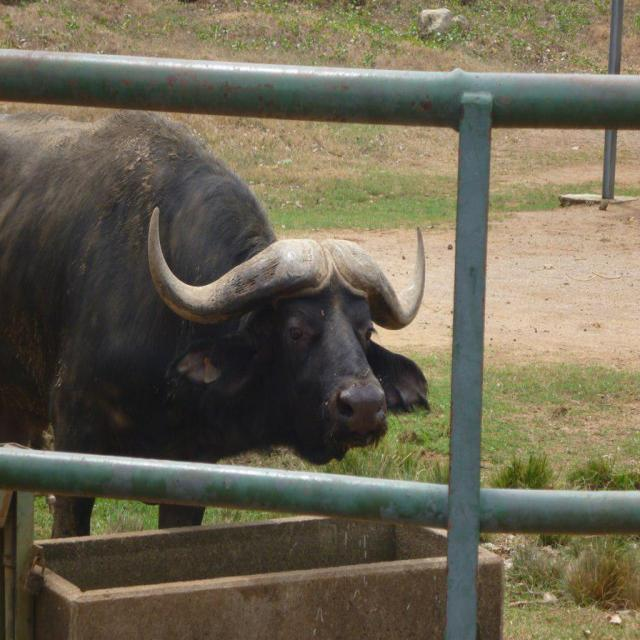Cattle: (0, 106, 432, 538)
